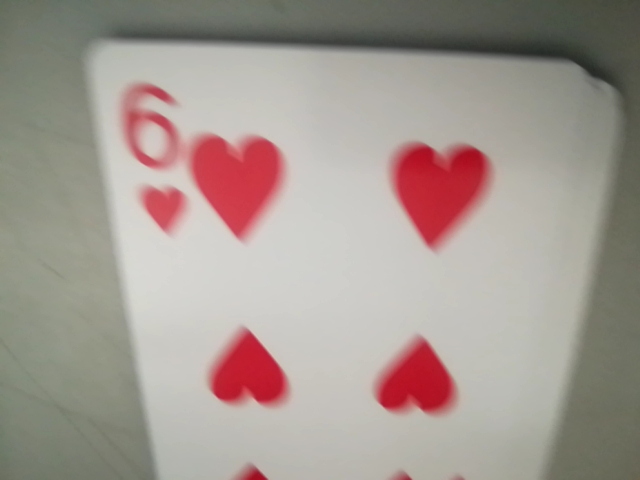hx 6: (108, 55, 202, 239)
